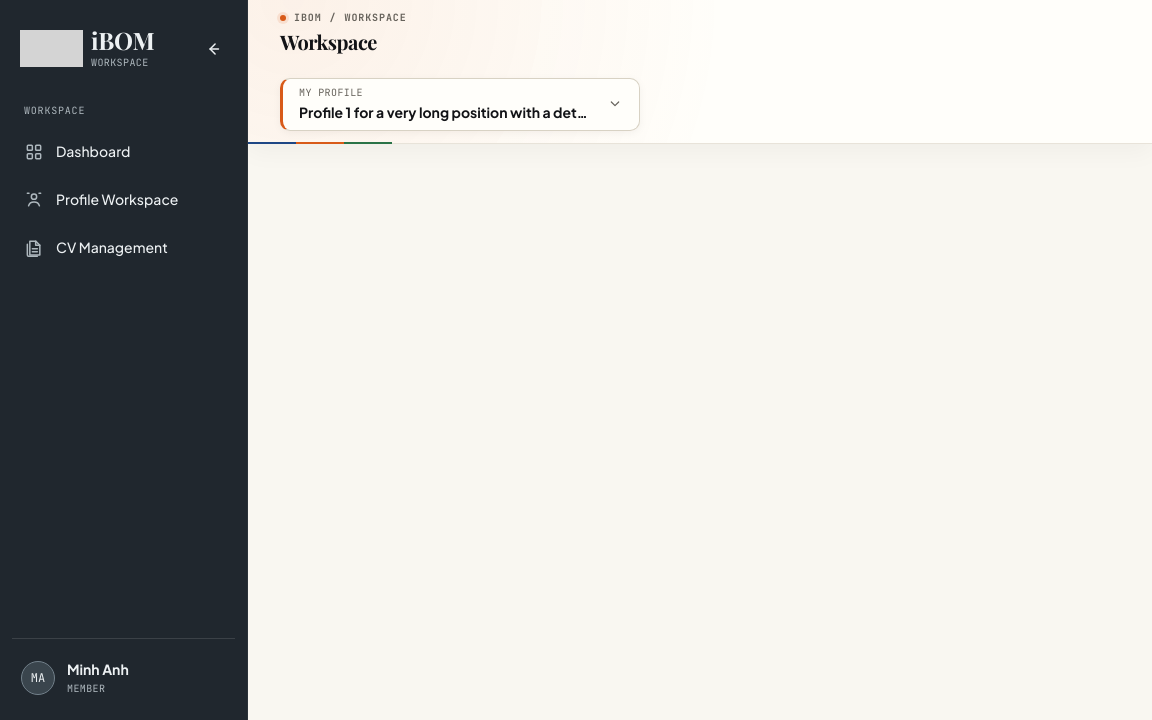
it: ApplicationShellComponent › allows long Profile names and actions to remain readable in a list of three
This screenshot has width=1152, height=720.
Click the button with aria-label "Select Profile" at {"x": 460, "y": 104}, box [280,78,640,131]
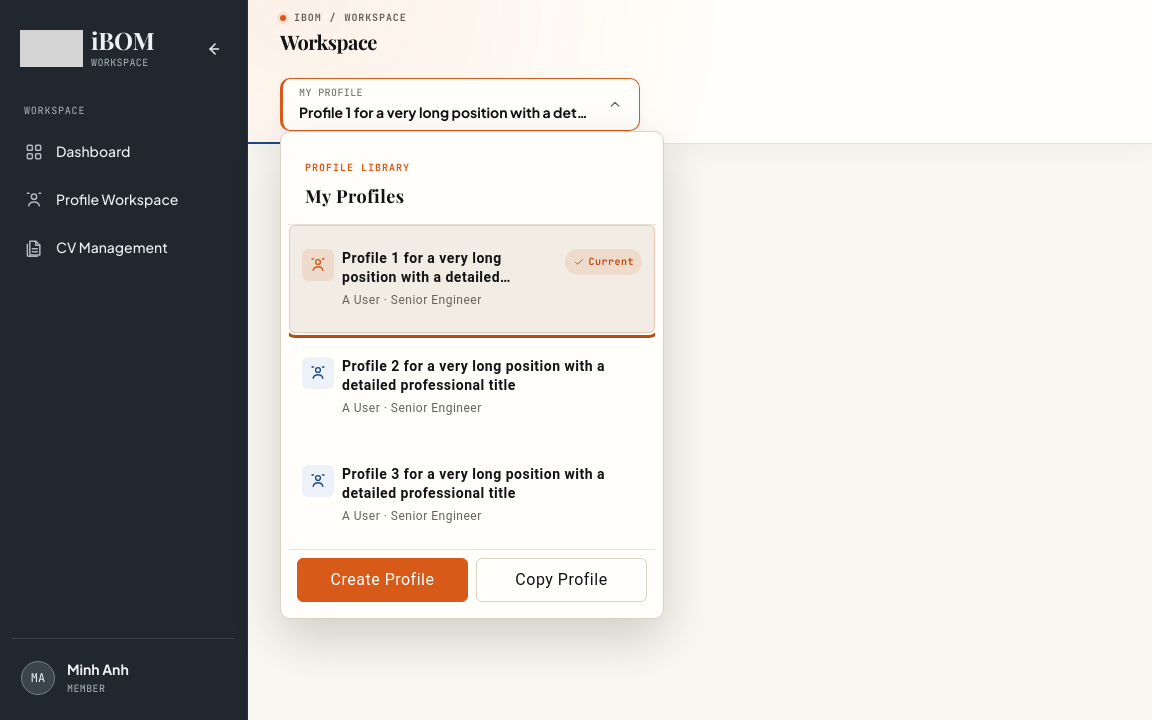
Check: the menu is shown, box [280,131,664,619]
